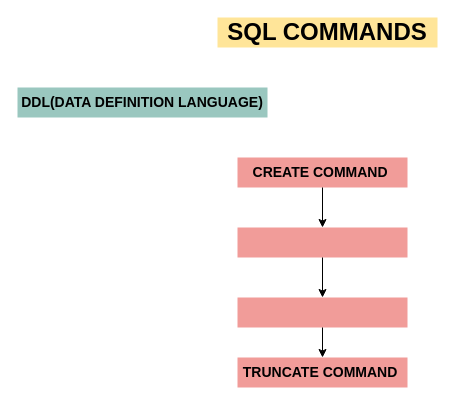
The diagram is 454 pixels wide and 404 high, and some of its shapes have lost their labels. Here are the shapes that lost their labels. From the top down, the centre of each, then its label:
At point 322,242: "DROP COMMAND".
At point 322,312: "ALTER COMMAND".
